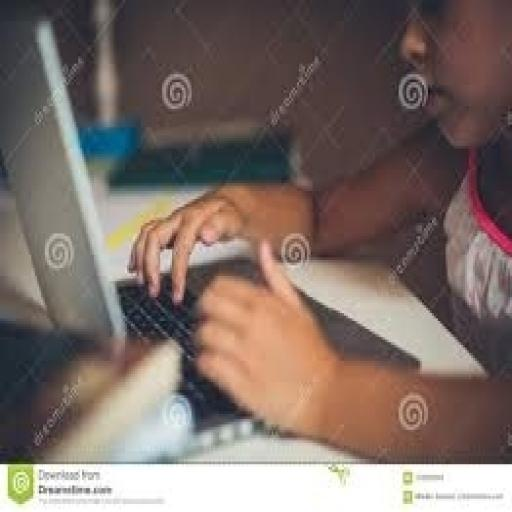using_laptop: (0, 37, 408, 512)
